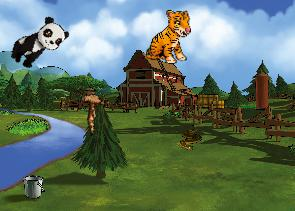eagle: (64, 77, 120, 136)
panda: (5, 12, 71, 75)
tiger: (146, 10, 191, 64)
